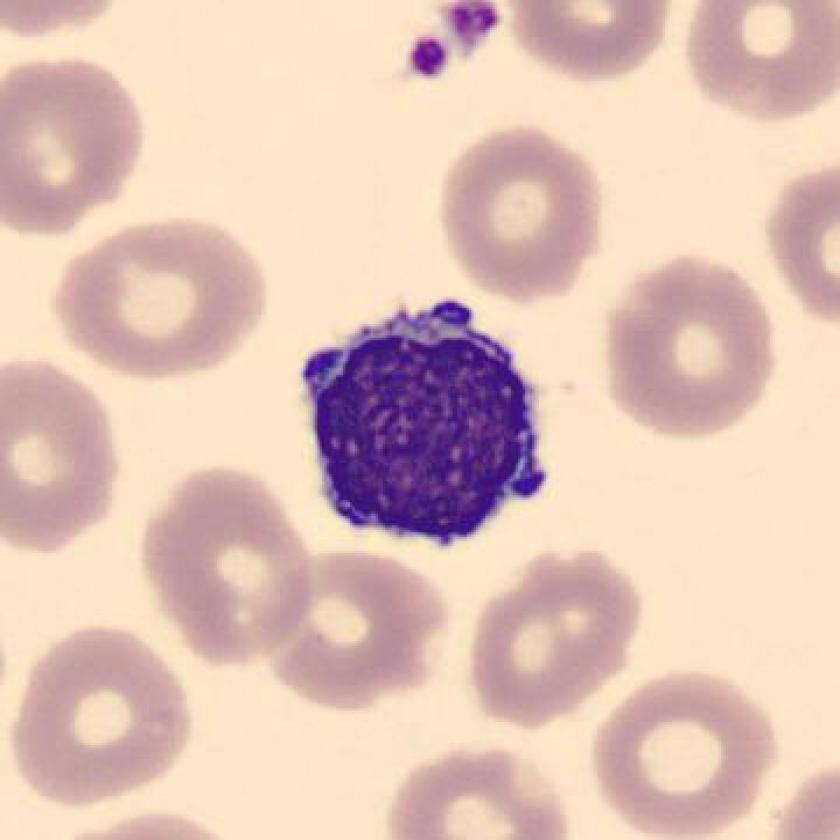lymphocyte: (284, 283, 564, 559)
platelets: (441, 1, 505, 56), (406, 35, 452, 84)
